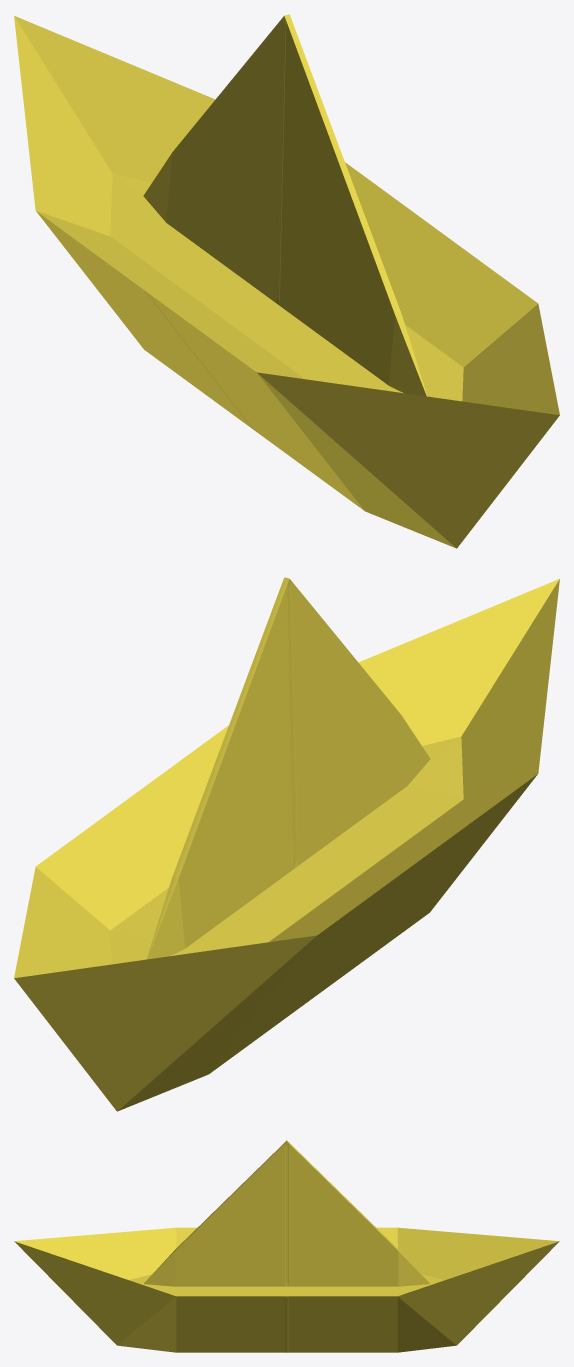
3 renders of one model, top to bottom at view 1: azimuth 30°, elevation 25°; view 2: azimuth 150°, elevation 25°; view 3: azimuth 270°, elevation 25°, orthographic. The views are drawn at different scales.
Visible parts, largest first — view 1: Cube_0; view 2: Cube_0; view 3: Cube_0, Letter_Hole_Patch.
Part boxes in pixels (<box>): Cube_0: <box>14,14,559,548</box>; Cube_0: <box>14,577,559,1111</box>; Cube_0: <box>14,1140,559,1352</box>; Letter_Hole_Patch: <box>443,1259,522,1293</box>.
Bounding box in the file's own units: 2.8 × 3.89 × 9.39.
